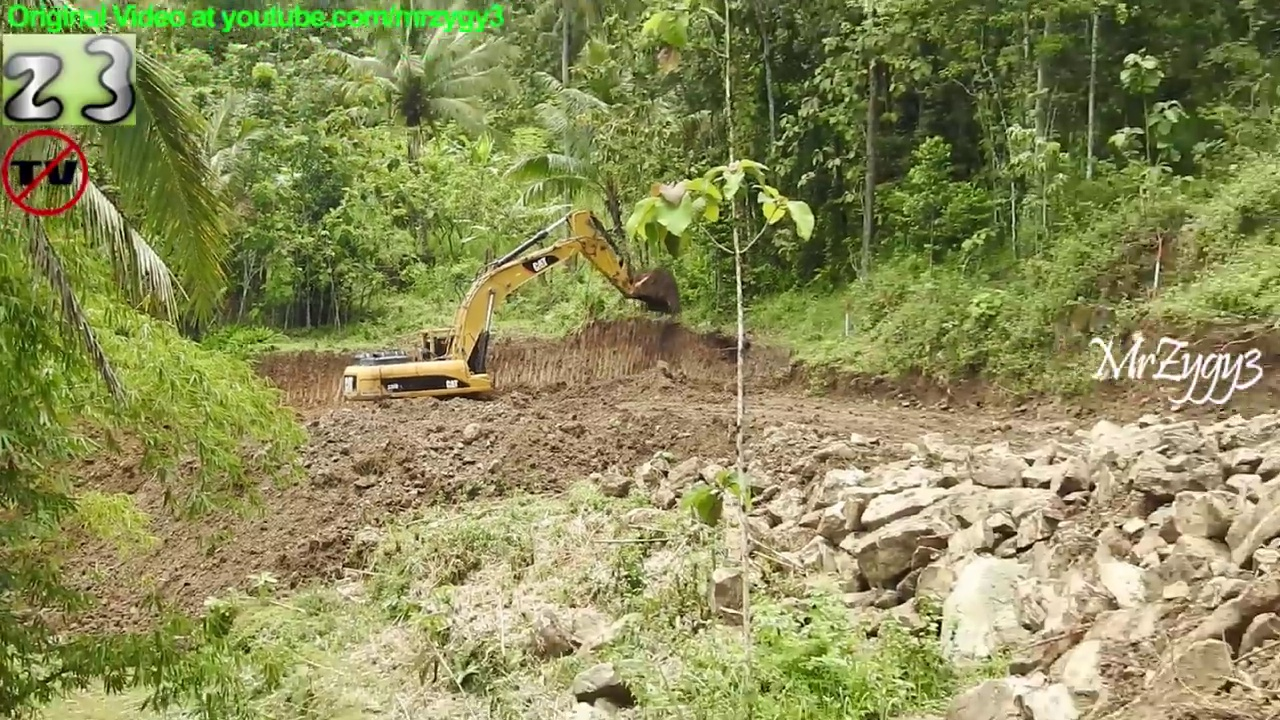excavator: (342, 210, 683, 404)
